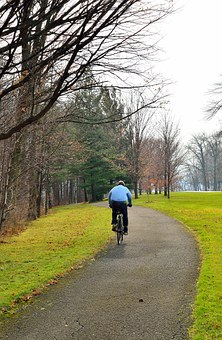bikerider: (102, 178, 135, 247)
